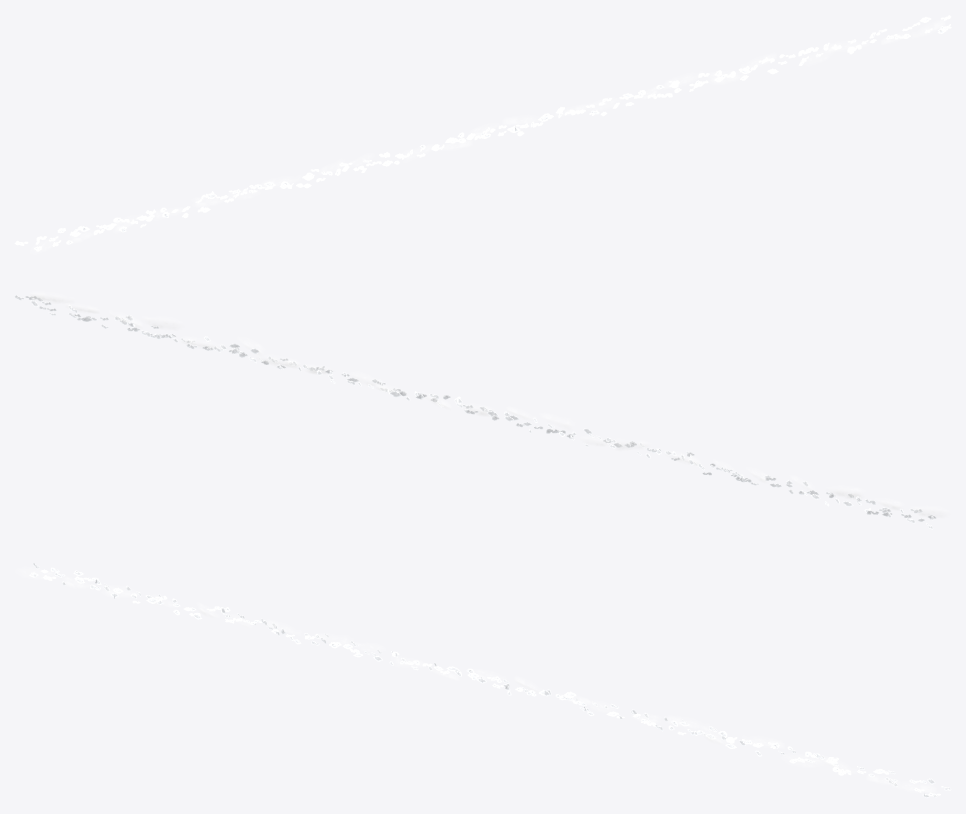
File: surge_front.glb
3 renders of one model, top to bottom at view 1: azimuth 30°, elevation 25°; view 2: azimuth 150°, elevation 25°; view 3: azimuth 330°, elevation 25°, orthographic.
Bounding box in the file's own units: 607 × 10.57 × 19.41.
Materials: 2 (2 with a texture image).
